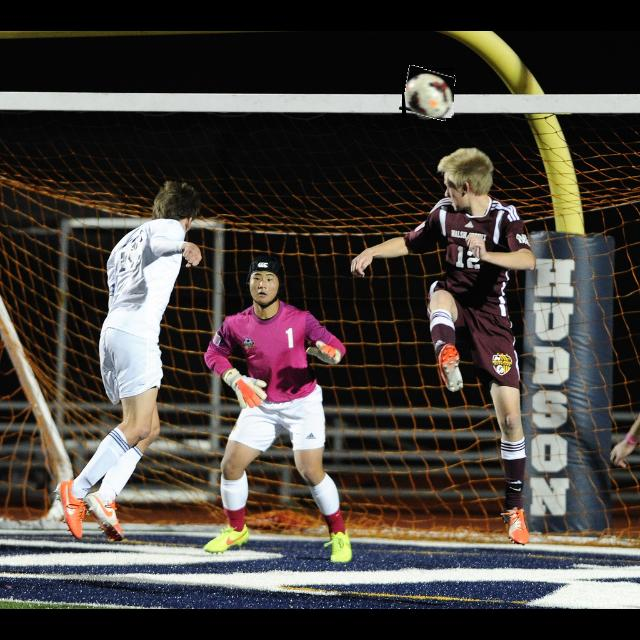Football: (402, 68, 454, 118)
